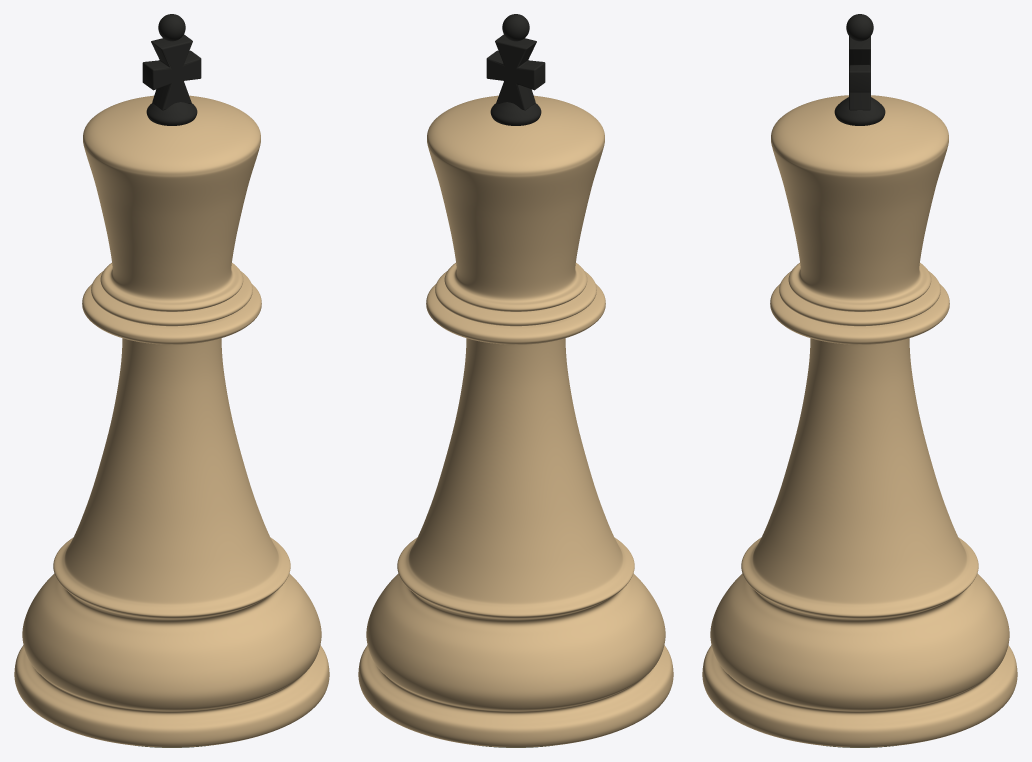
File: king-cross.glb
3 renders of one model, left to right at view 1: azimuth 30°, elevation 25°; view 2: azimuth 150°, elevation 25°; view 3: azimuth 270°, elevation 25°, orthographic.
Parts seen in each view (by area): view 1: King cross.001; view 2: King cross.001; view 3: King cross.001.
Part boxes in pixels (x1=…): King cross.001: x1=14, y1=14, x2=329, y2=747; King cross.001: x1=358, y1=14, x2=673, y2=747; King cross.001: x1=702, y1=14, x2=1017, y2=747.
Bounding box in the file's own units: 0.0414 × 0.098 × 0.0414.
